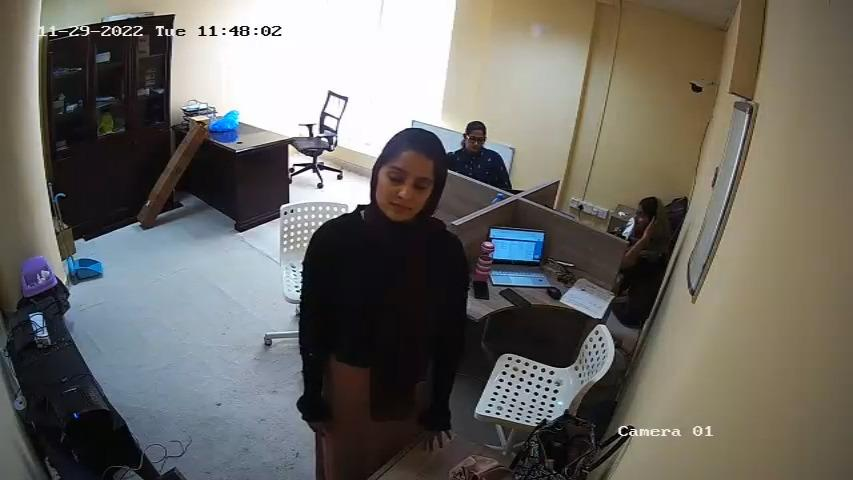no_apron: (332, 227, 446, 386)
